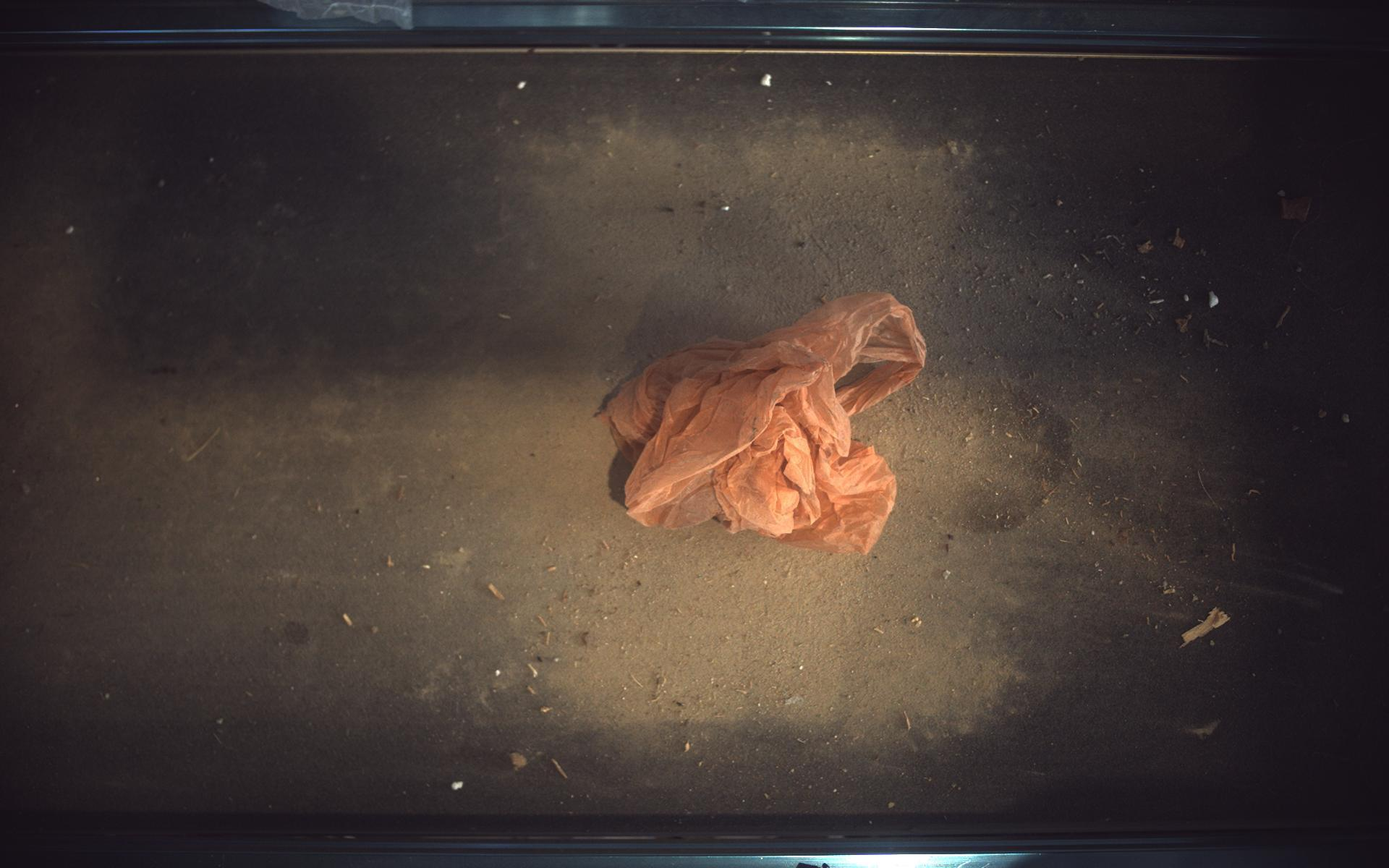general_w: (598, 292, 927, 553)
